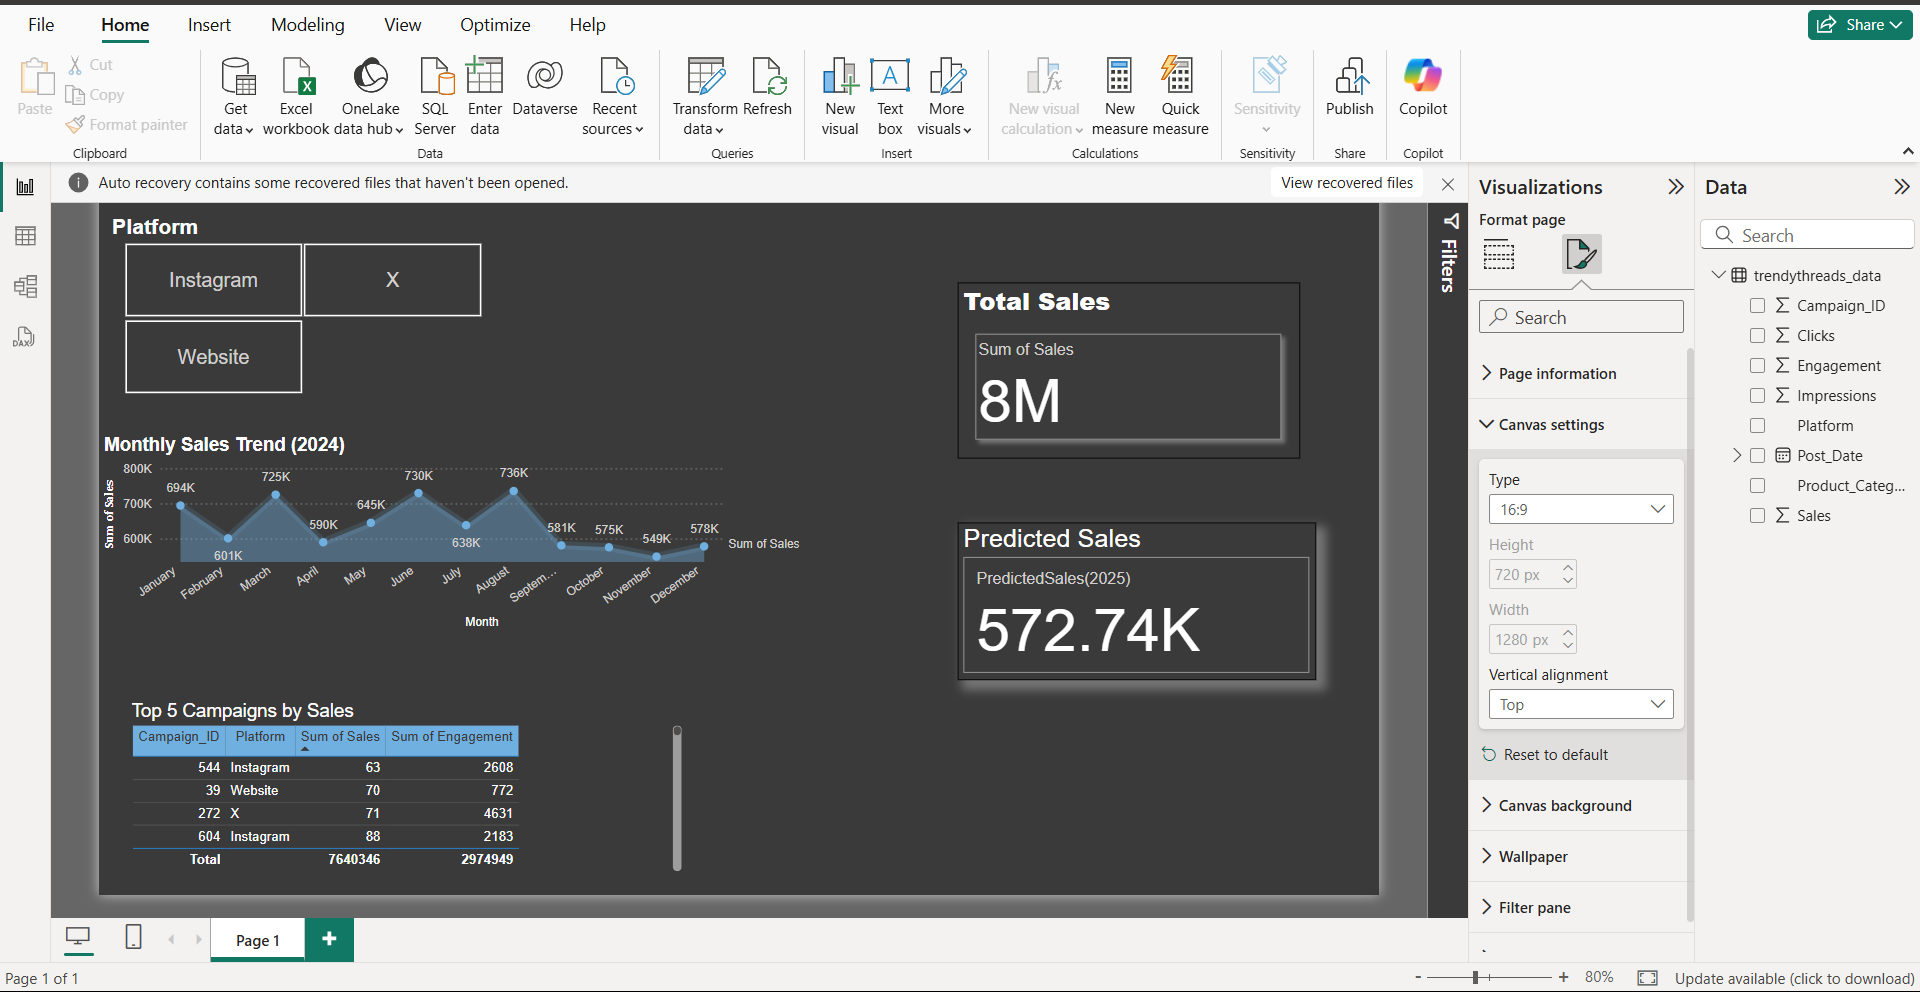

Layout of this report page (visuals, bound fields, positions):
{"tool":"powerbi","page":{"name":"Page 1","canvas":[1280,720],"ordinal":0},"visuals":[{"type":"lineChart","title":"Monthly Sales Trend (2024)","fields":{"Y":["Sum(trendythreads_data.Sales)"],"Category":["trendythreads_data.Post_Date.Variation.Date Hierarchy.Month"]},"box":[0,258.8,708.8,200],"z":0},{"type":"tableEx","title":"Top 5 Campaigns by Sales","fields":{"Values":["trendythreads_data.Campaign_ID","trendythreads_data.Platform","Sum(trendythreads_data.Sales)","Sum(trendythreads_data.Engagement)"]},"box":[27.5,525,560,176.2],"z":1000},{"type":"cardVisual","title":"Total Sales","fields":{"Data":["Sum(trendythreads_data.Sales)"]},"box":[858.8,107.5,342.5,176.2],"z":2000},{"type":"cardVisual","title":"Predicted Sales","fields":{"Data":["select"]},"box":[858.8,347.5,358.8,157.5],"z":3000},{"type":"slicer","fields":{"Values":["trendythreads_data.Platform"]},"box":[0,35,406.2,190],"z":4000}]}

Visuals, with their boxes on the page's 1280x720 design canvas (x1, y1, x2, y2). These are canvas units, not pixel positions in the 1920x992 screenshot, which may show the page scaled, cropped or inside an application window:
"Monthly Sales Trend (2024)" lineChart: 0:259:709:459
"Top 5 Campaigns by Sales" tableEx: 28:525:588:701
"Total Sales" cardVisual: 859:108:1201:284
"Predicted Sales" cardVisual: 859:348:1218:505
slicer - trendythreads_data.Platform: 0:35:406:225
